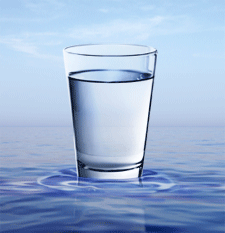glass of water: (63, 44, 157, 178)
